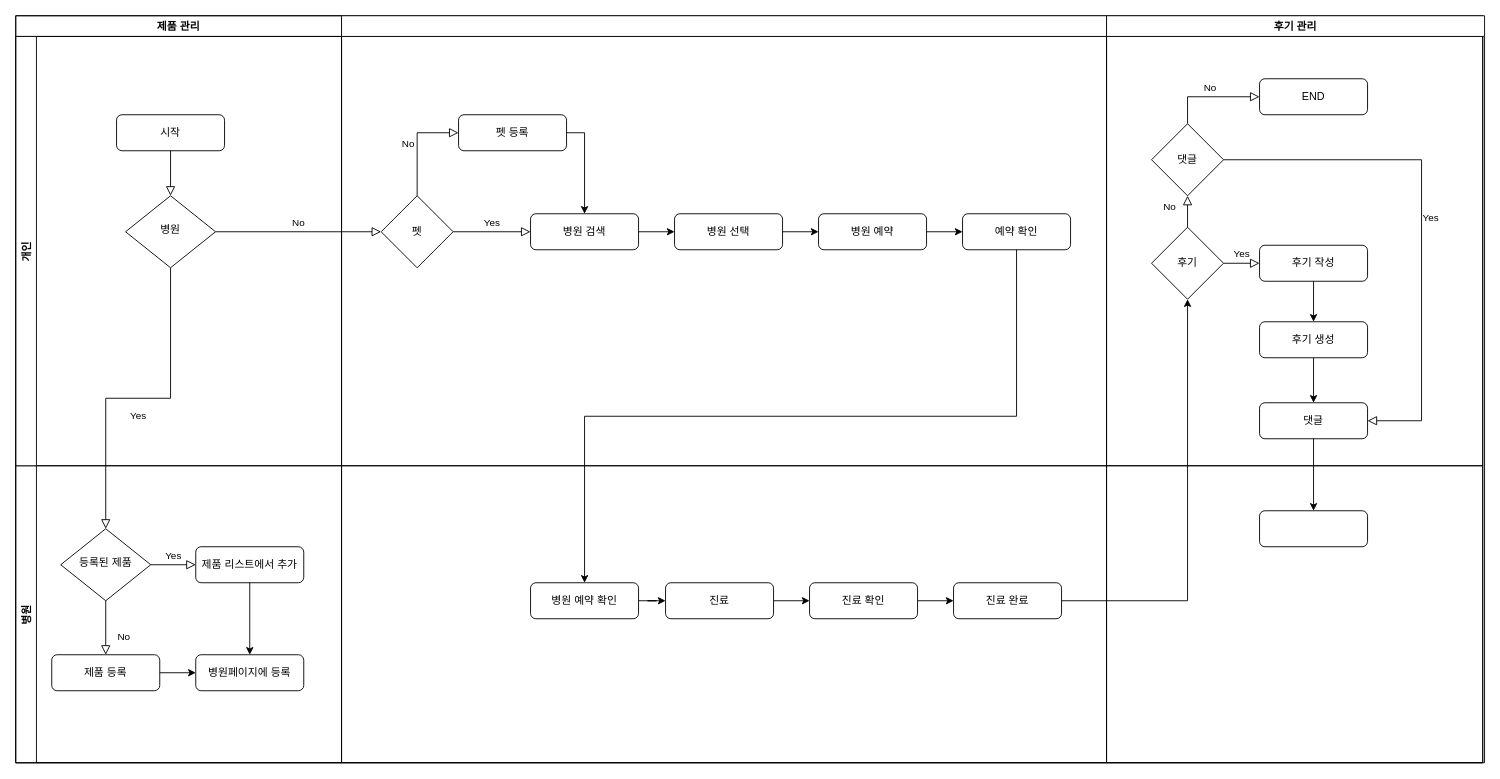
Image size: 1500x779. Some labels were removed from this diagram. Each missing label, with the centre of its shape:
"예약 관리" goes at point (724, 389).
"후기 확인" goes at point (1313, 528).
